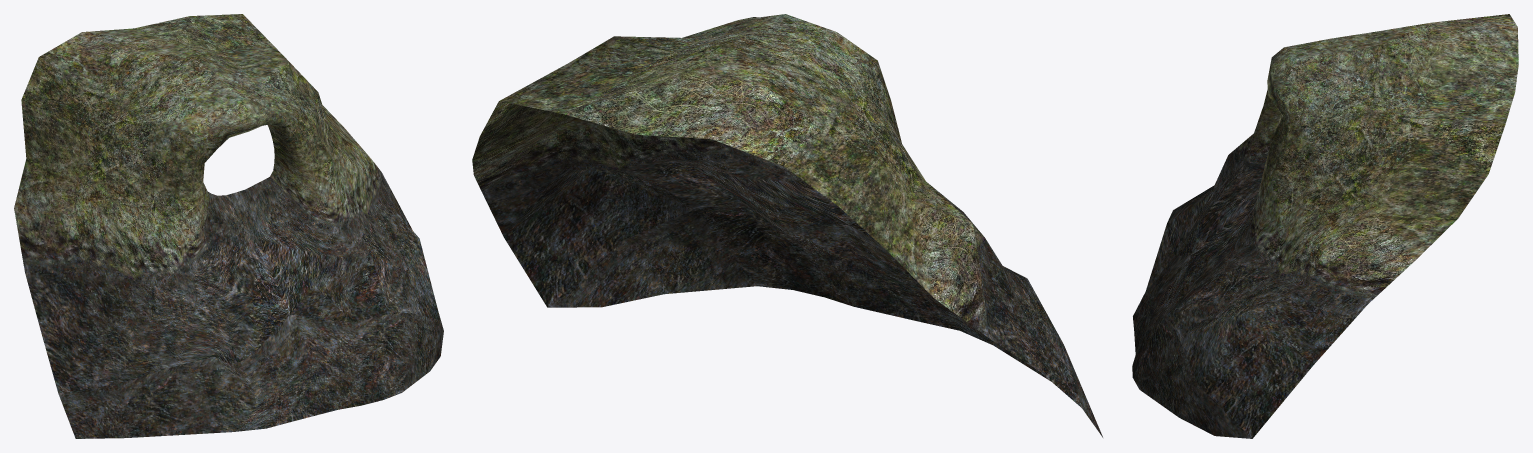
File: thm_all_cave_s03_damprock_r0_mesh_l2.fbx
3 renders of one model, left to right at view 1: azimuth 30°, elevation 25°; view 2: azimuth 150°, elevation 25°; view 3: azimuth 270°, elevation 25°, orthographic. The views are drawn at different scales.
Visible parts, largest first — view 1: mesh_node; view 2: mesh_node; view 3: mesh_node.
Boxes of the visible parts, box(x1,y1,x2,y2) form: mesh_node: box(14, 14, 443, 438); mesh_node: box(472, 14, 1102, 437); mesh_node: box(1132, 14, 1518, 438).
Bounding box in the file's own units: 48.32 × 34.16 × 39.34.
